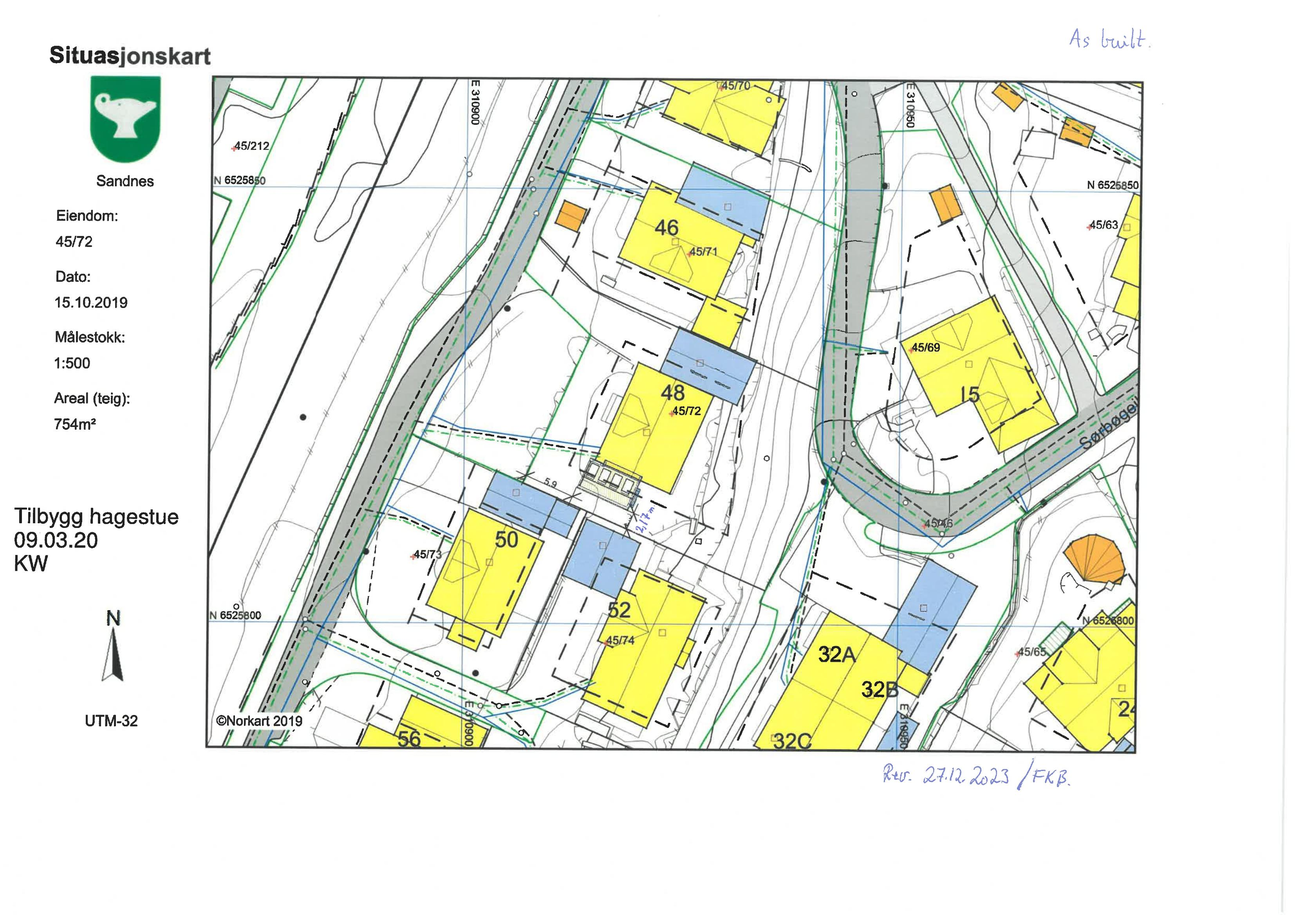situasjonskart: (213, 76, 1139, 753)
